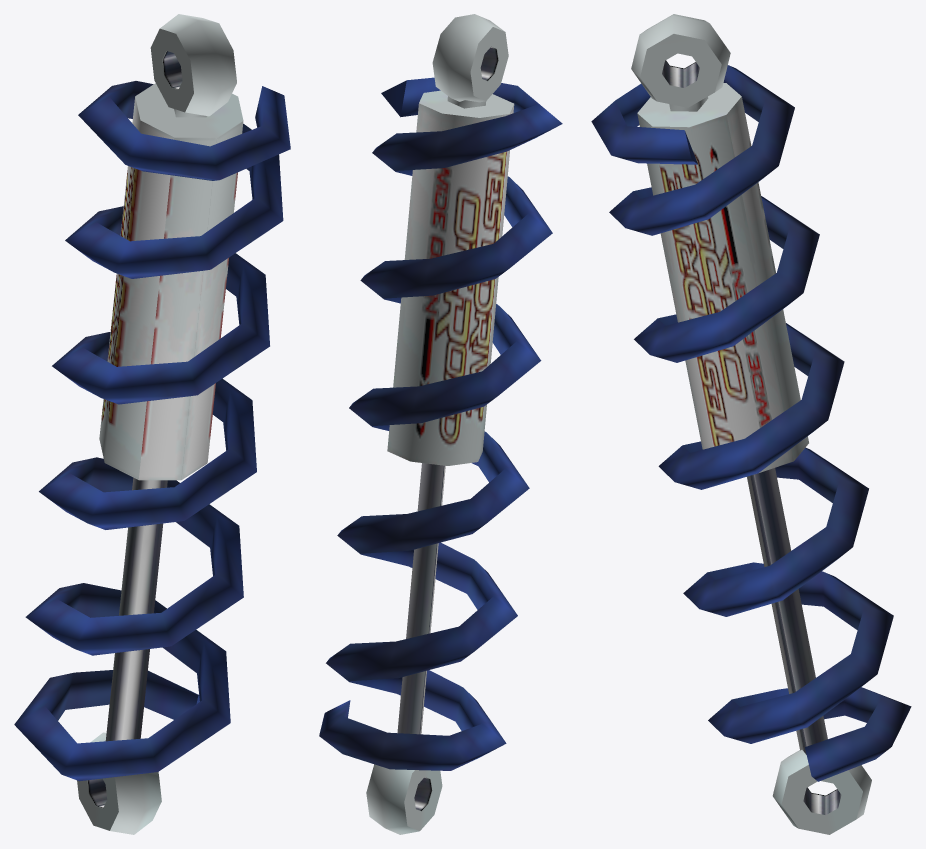
The model's file is iconcopy.ico.obj.
3 views of the same model, side by side, from view 1: azimuth 30°, elevation 25°; view 2: azimuth 150°, elevation 25°; view 3: azimuth 270°, elevation 25° (orthographic). The views are drawn at different scales.
Size of the model in its own units: 0.3887 by 1.77 by 0.6277.
Materials: 1 (1 with a texture image).
